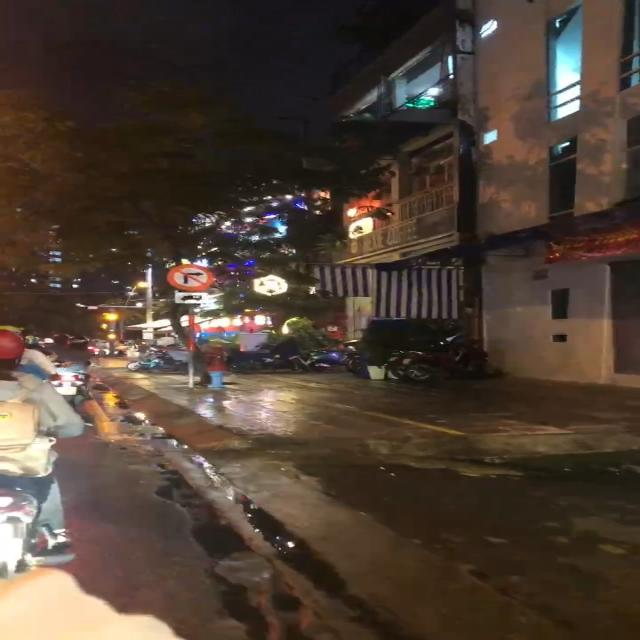Bien bao cam re phai: (159, 263, 218, 292)
